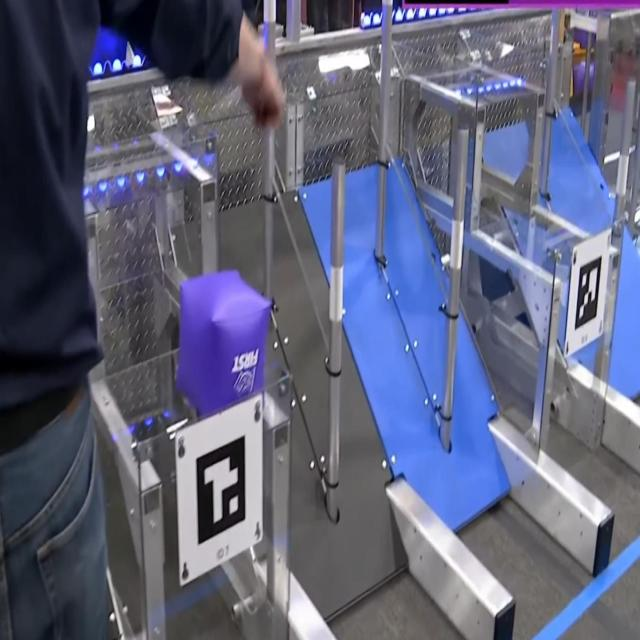frc_cube: (179, 269, 270, 405), (575, 63, 590, 101)
